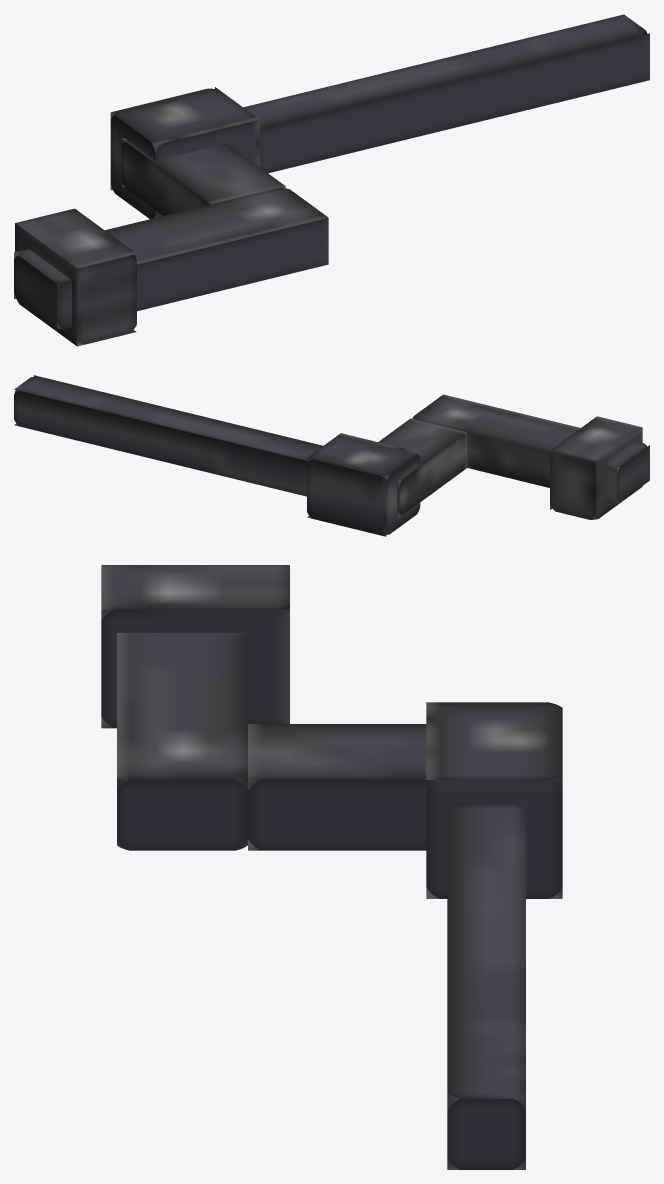
Rendered from traction_top_left.obj.
3 views of the same model, one above another, from view 1: azimuth 30°, elevation 25°; view 2: azimuth 150°, elevation 25°; view 3: azimuth 270°, elevation 25° (orthographic). The views are drawn at different scales.
Parts seen in each view (by area): view 1: element_28, element_25, element_24, element_27, element_26; view 2: element_28, element_25, element_27, element_24, element_26; view 3: element_28, element_25, element_26, element_27, element_24.
Boxes of the visible parts, x1=… form: element_28: x1=243, y1=14, x2=649, y2=173; element_25: x1=14, y1=186, x2=328, y2=330; element_24: x1=15, y1=208, x2=136, y2=346; element_27: x1=110, y1=87, x2=259, y2=218; element_26: x1=121, y1=138, x2=285, y2=215; element_28: x1=14, y1=375, x2=322, y2=496; element_25: x1=412, y1=394, x2=649, y2=504; element_27: x1=307, y1=433, x2=420, y2=536; element_24: x1=550, y1=416, x2=642, y2=519; element_26: x1=378, y1=418, x2=467, y2=517; element_28: x1=447, y1=803, x2=525, y2=1169; element_25: x1=117, y1=633, x2=247, y2=850; element_26: x1=248, y1=724, x2=426, y2=850; element_27: x1=426, y1=702, x2=562, y2=898; element_24: x1=101, y1=565, x2=289, y2=728.
Bounding box in the file's own units: 1.47 × 0.1562 × 0.55.
